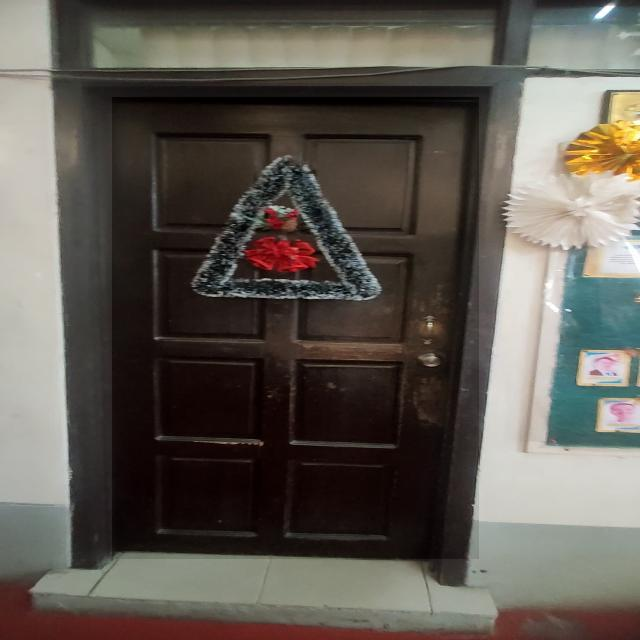door: (107, 97, 479, 560)
